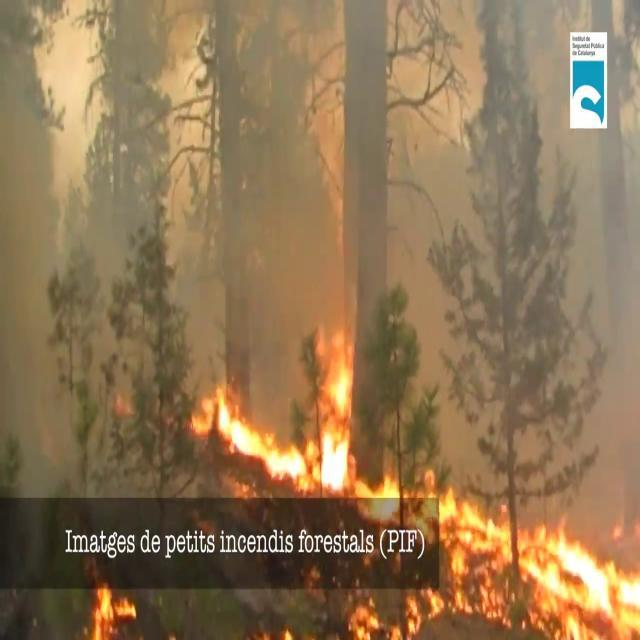Fire: (436, 480, 640, 636), (191, 338, 368, 496), (348, 462, 458, 516), (344, 584, 454, 638), (85, 579, 141, 639)
Smoke: (377, 1, 640, 459), (0, 0, 198, 483), (160, 0, 368, 352)
